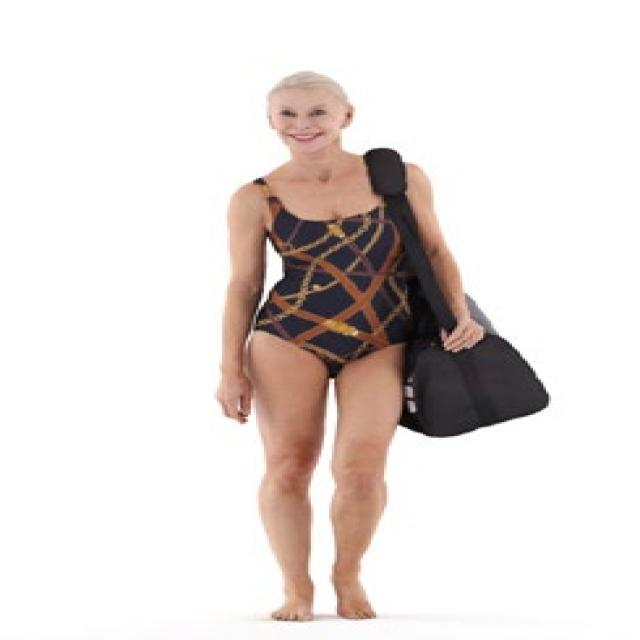standing: (217, 68, 485, 624)
